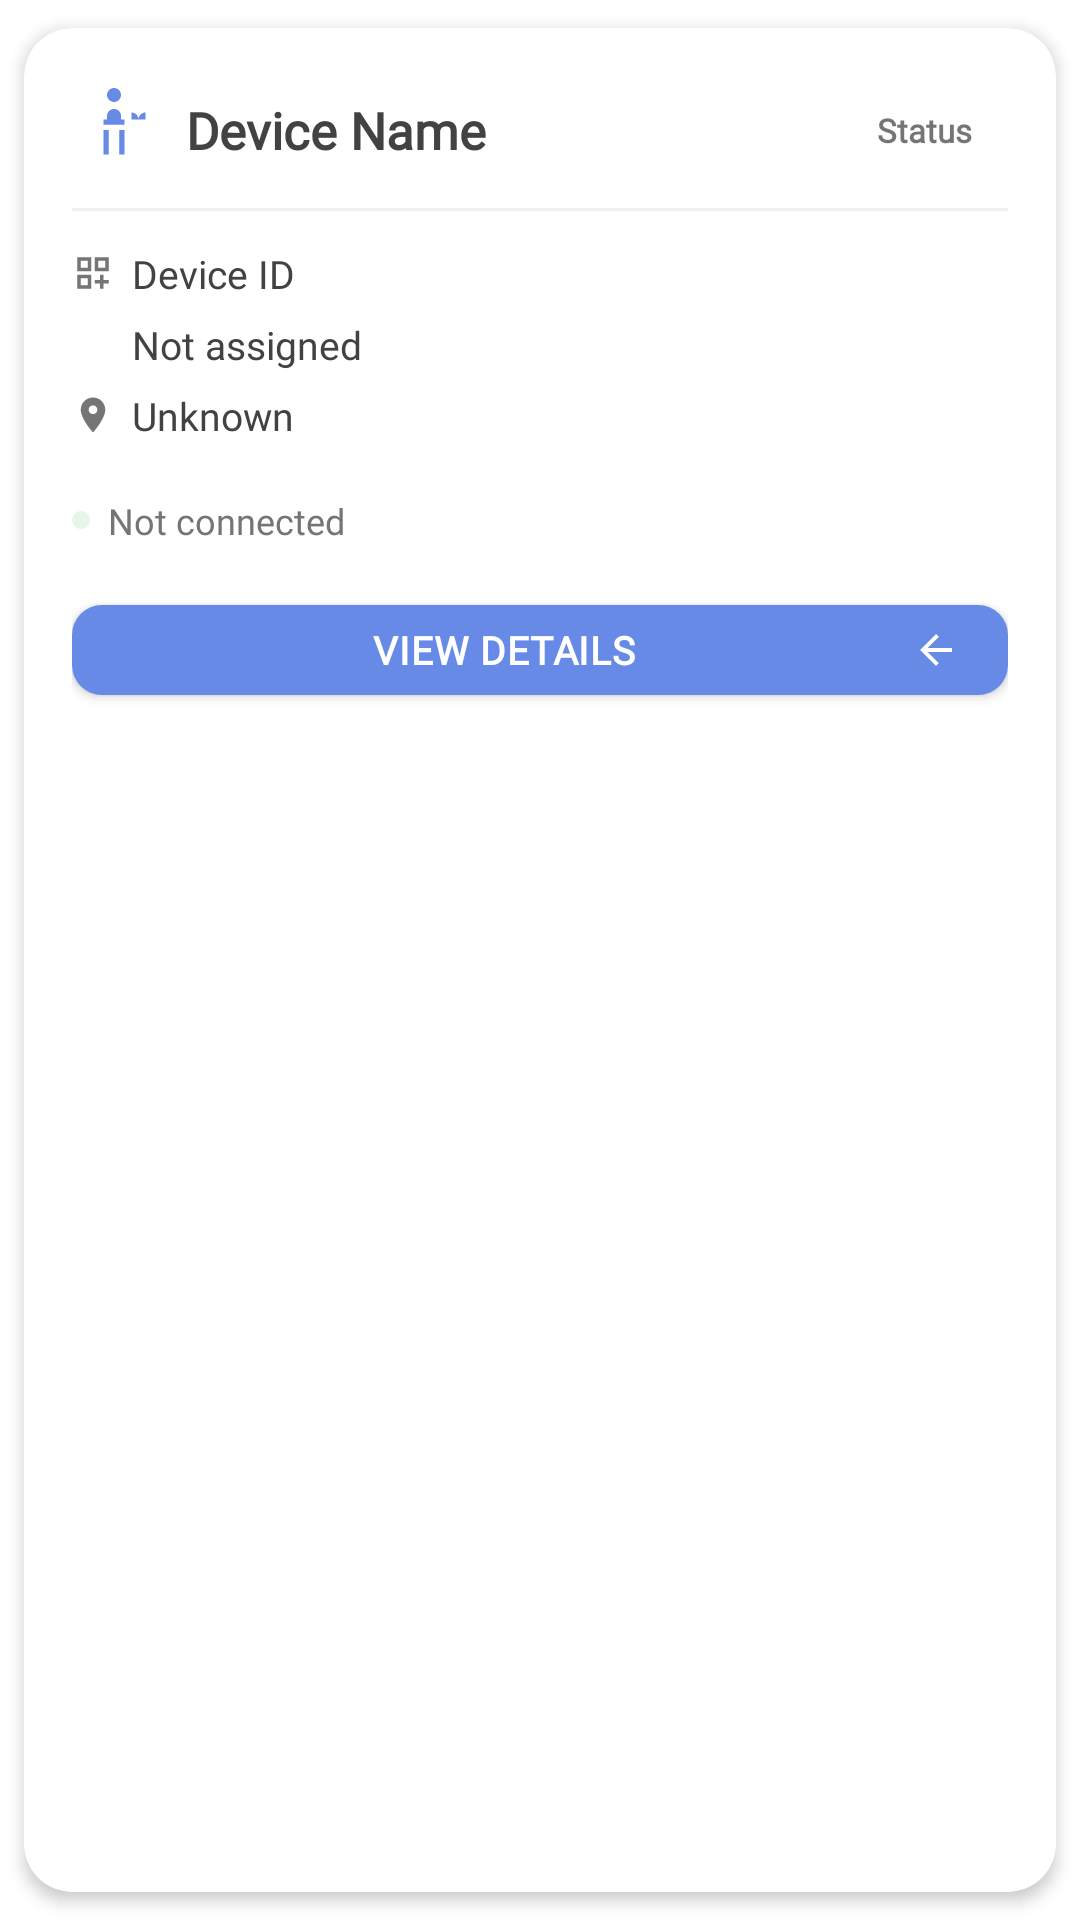

Icon click points for this 1080x1920 phone screenshot, format [x,y]:
location: [93,414]
